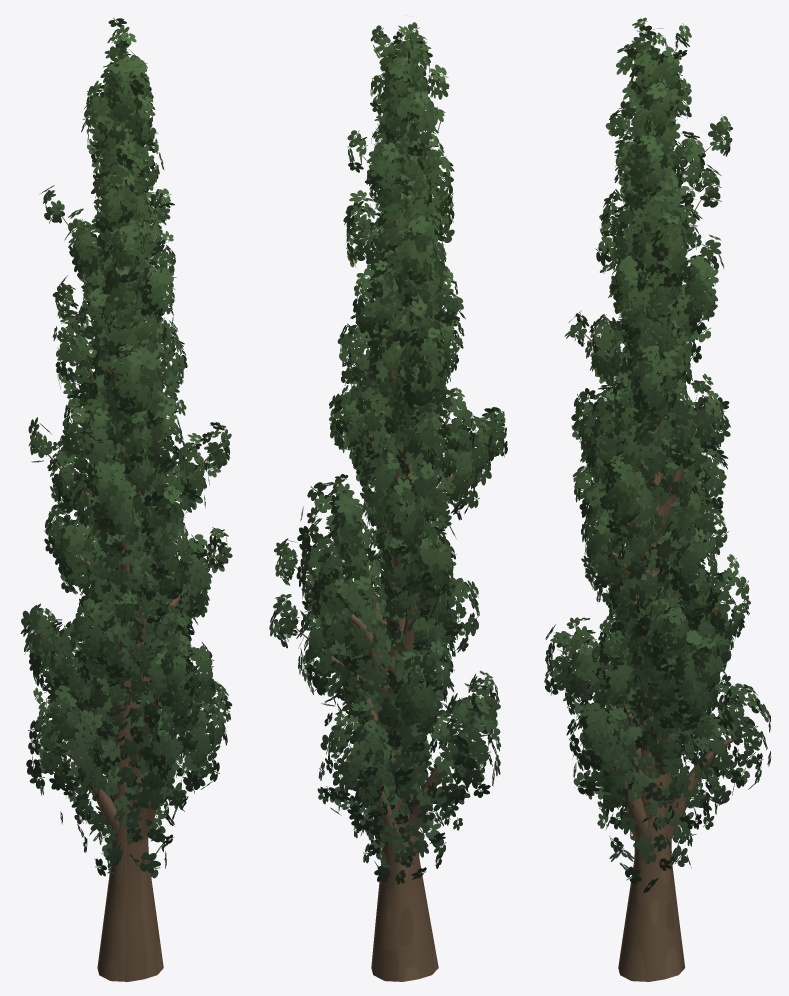
Rendered from tree.gltf.
The picture shows the model from 3 angles, left to right: view 1: azimuth 30°, elevation 25°; view 2: azimuth 150°, elevation 25°; view 3: azimuth 270°, elevation 25°; orthographic projection.
Parts seen in each view (by area): view 1: Tree_LOD0; view 2: Tree_LOD0; view 3: Tree_LOD0.
Part boxes in pixels (x1,y1,x2,y2): Tree_LOD0: (20, 18, 232, 981); Tree_LOD0: (269, 22, 507, 981); Tree_LOD0: (544, 17, 771, 981).
Size of the model in its own units: 7.29 by 30.55 by 6.8.
2 materials, 2 textured.
